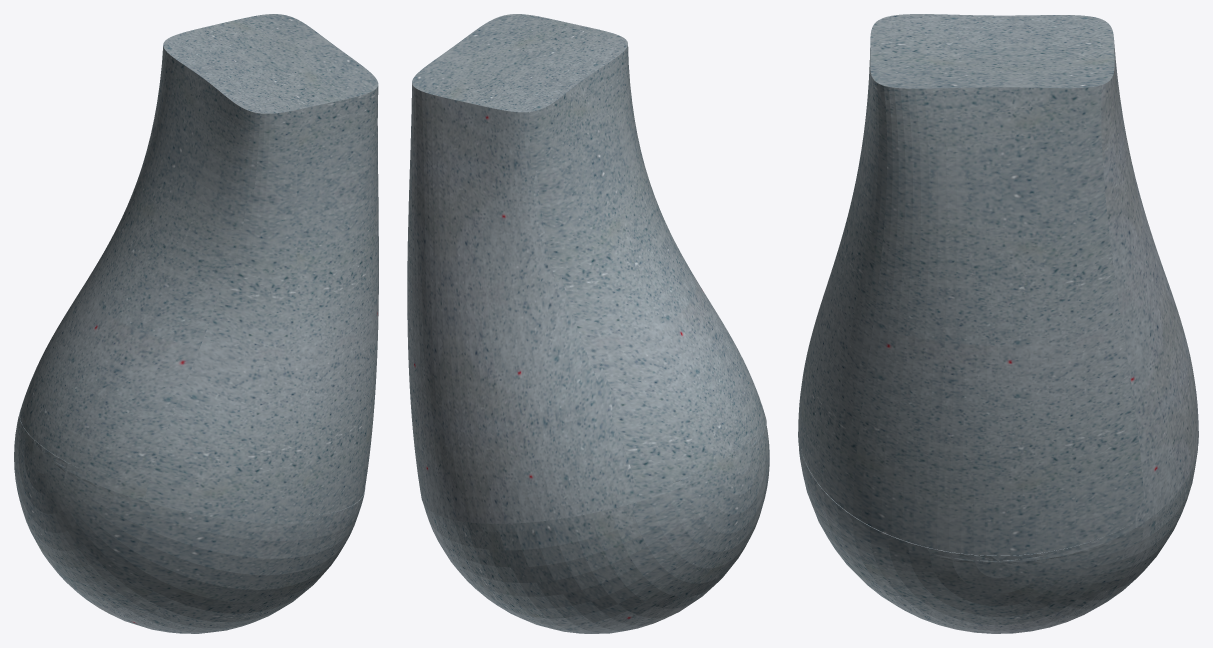
Rendered from fl_foot.dae.
3 renders of one model, left to right at view 1: azimuth 30°, elevation 25°; view 2: azimuth 150°, elevation 25°; view 3: azimuth 270°, elevation 25°, orthographic. The views are drawn at different scales.
Parts seen in each view (by area): view 1: fl_foot; view 2: fl_foot; view 3: fl_foot.
Part boxes in pixels (left/top/right/bottom): fl_foot: left=14, top=14, right=378, bottom=633; fl_foot: left=407, top=14, right=769, bottom=633; fl_foot: left=798, top=14, right=1198, bottom=633.
Bounding box in the file's own units: 0.0435 × 0.0421 × 0.0703.
1 material, 1 textured.
